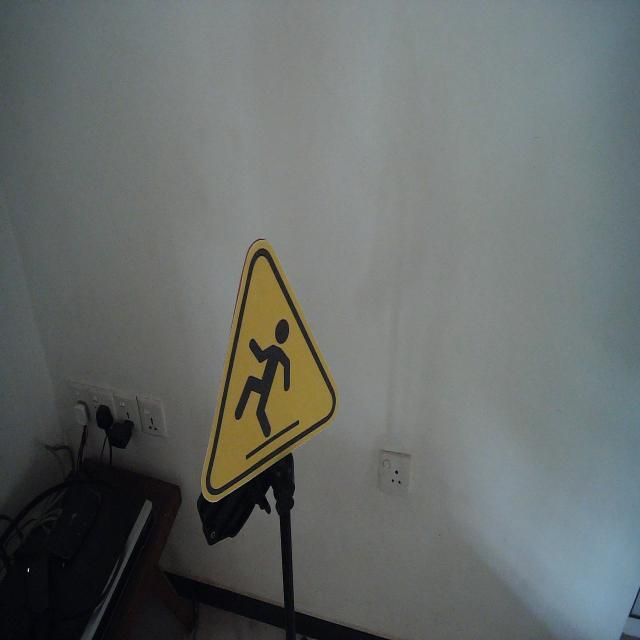slippery_sign: (198, 232, 340, 507)
